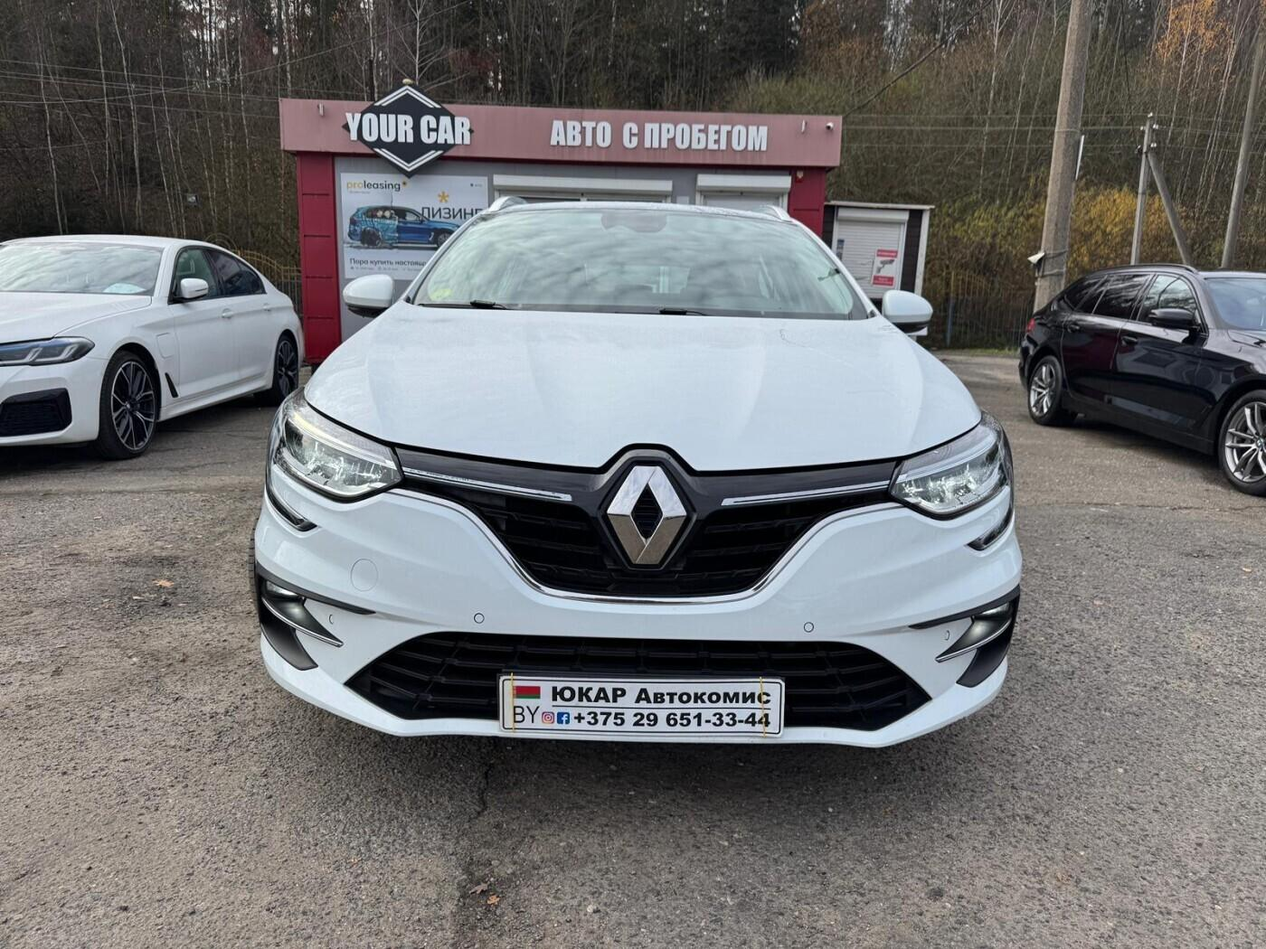Megane_2020: (253, 187, 1017, 759)
